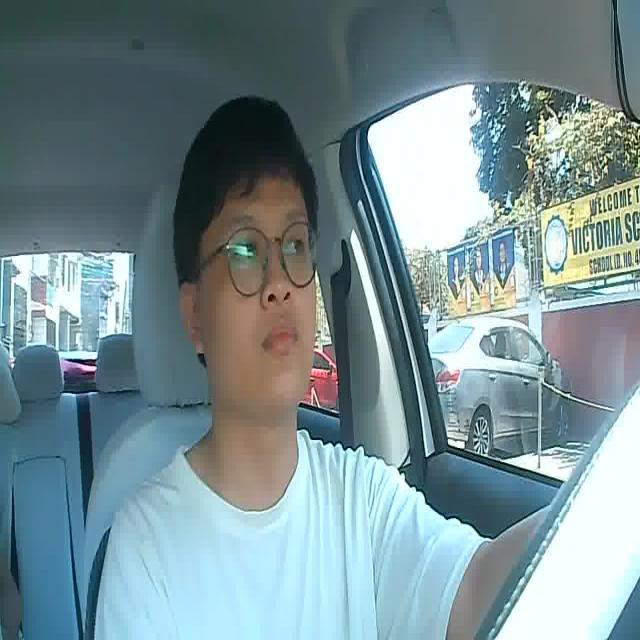Attentive: (175, 94, 323, 405)
Eye-Open: (229, 238, 261, 264), (280, 233, 304, 260)
Normal: (248, 331, 284, 366)
